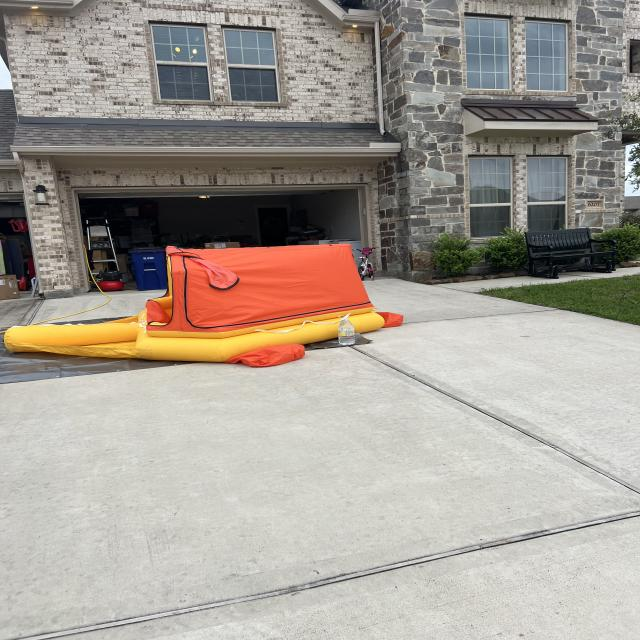Multi-person_life_raft: (4, 242, 404, 367)
